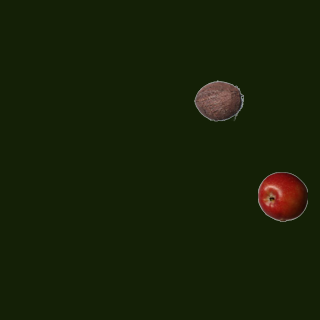Apple Braeburn: (257, 171, 307, 221)
Cocos: (193, 75, 243, 125)
